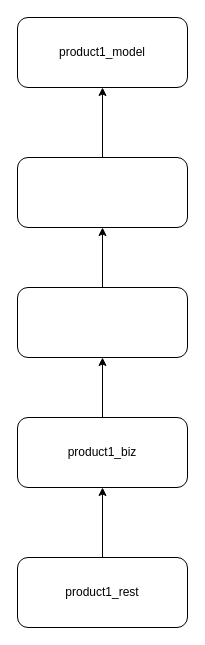
The diagram is 205 pixels wide and 645 high, and some of its shapes have lost their labels. The shapes that lost their labels are listed below. From the top down, each one's box as (x1, y1, x2, y2) in pixels, then its label:
(16, 156, 188, 228): product1_conf
(16, 286, 188, 358): product1_pers
